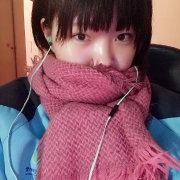WRONG: (51, 11, 140, 100)
